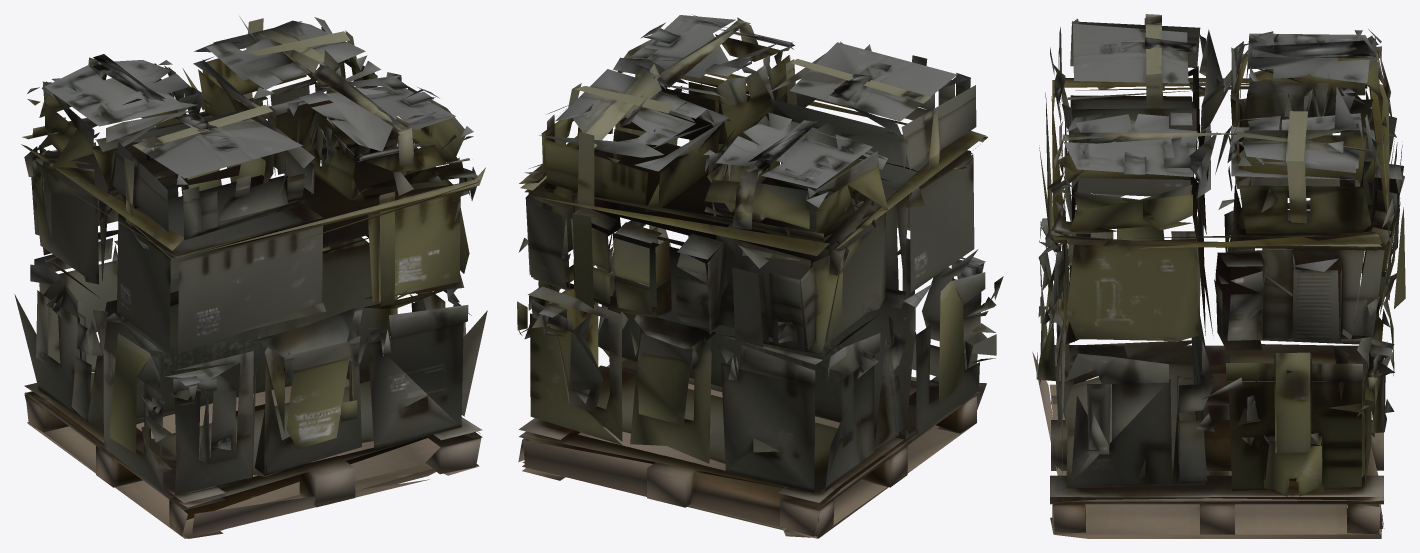
The model's file is ch4_meridian_crate_stack_LOD3.glb.
The picture shows the model from 3 angles, left to right: view 1: azimuth 30°, elevation 25°; view 2: azimuth 150°, elevation 25°; view 3: azimuth 270°, elevation 25°; orthographic projection. The views are drawn at different scales.
Parts seen in each view (by area): view 1: tripo_node_f5c4e4e8-3376-4078-b9fc-911eb14a894c; view 2: tripo_node_f5c4e4e8-3376-4078-b9fc-911eb14a894c; view 3: tripo_node_f5c4e4e8-3376-4078-b9fc-911eb14a894c.
Part boxes in pixels (x1=…): tripo_node_f5c4e4e8-3376-4078-b9fc-911eb14a894c: x1=14, y1=16, x2=487, y2=538; tripo_node_f5c4e4e8-3376-4078-b9fc-911eb14a894c: x1=517, y1=14, x2=1003, y2=538; tripo_node_f5c4e4e8-3376-4078-b9fc-911eb14a894c: x1=1032, y1=14, x2=1405, y2=538.
Size of the model in its own units: 0.9951 by 1.04 by 0.8723.
Materials: 1 (1 with a texture image).
